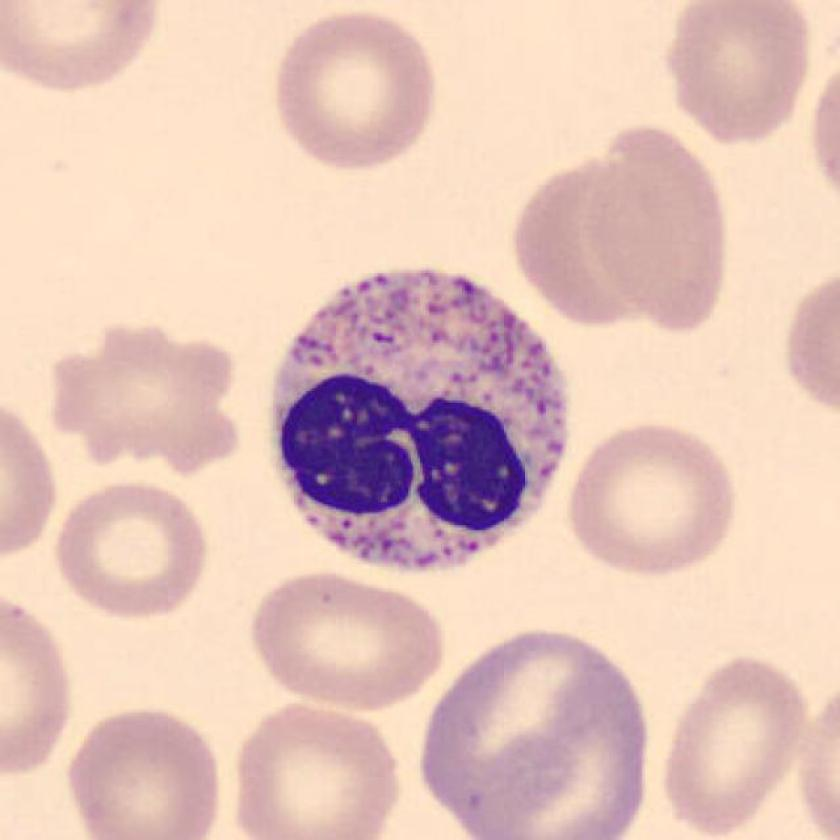neutrophil: (274, 269, 569, 572)
